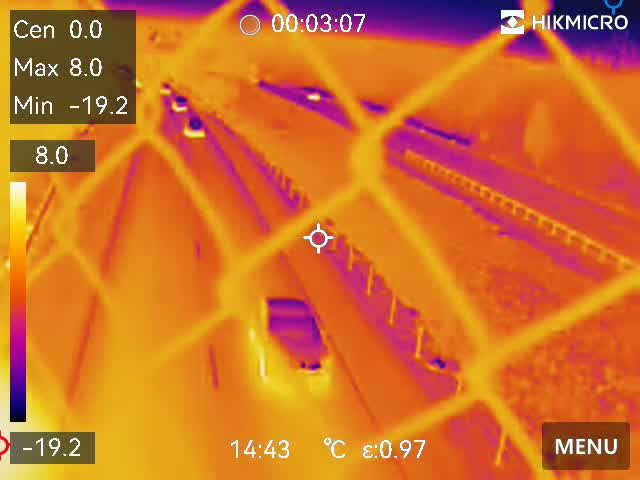vehicle: (254, 283, 333, 390), (183, 112, 212, 143), (155, 77, 177, 98), (303, 90, 325, 104), (173, 95, 186, 115)
